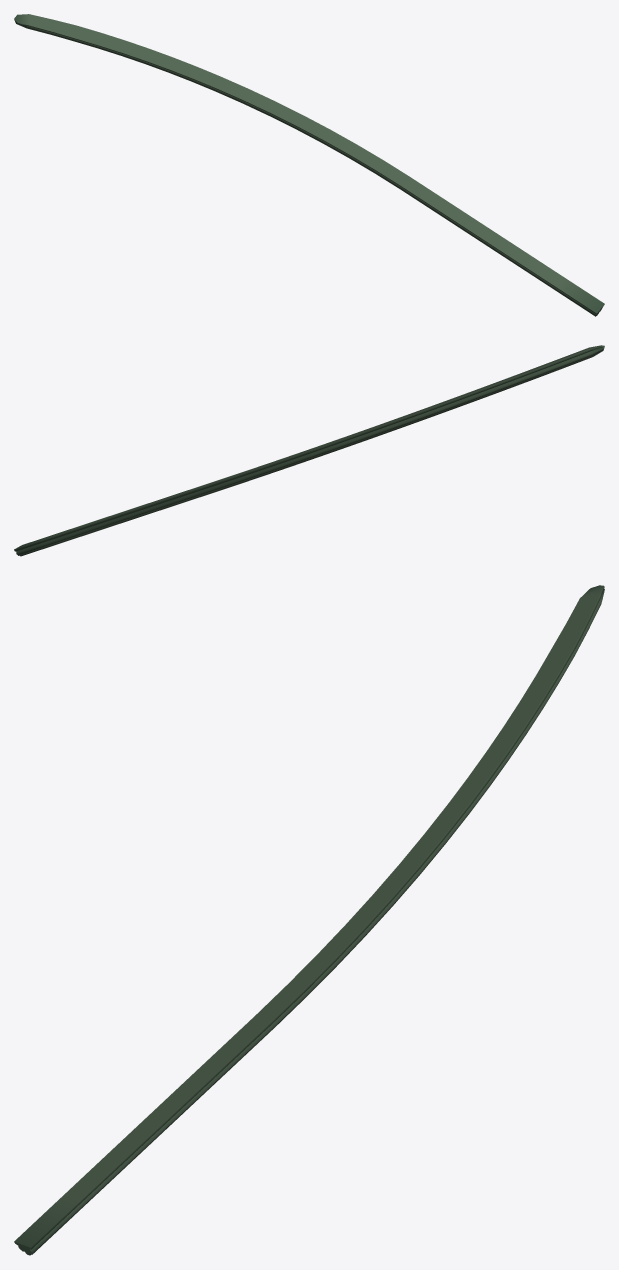
Rendered from trees-plants-saplings-green-stem_v4.fbx.
3 views of the same model, one above another, from view 1: azimuth 30°, elevation 25°; view 2: azimuth 210°, elevation 25°; view 3: azimuth 270°, elevation 25° (orthographic). The views are drawn at different scales.
Visible parts, largest first — view 1: Green Stem_v4; view 2: Green Stem_v4; view 3: Green Stem_v4.
Part boxes in pixels (x1,y1,x2,y2): Green Stem_v4: [14, 14, 604, 316]; Green Stem_v4: [14, 345, 604, 556]; Green Stem_v4: [14, 585, 604, 1255].
Size of the model in its own units: 0.5 by 0.3039 by 0.4237.
